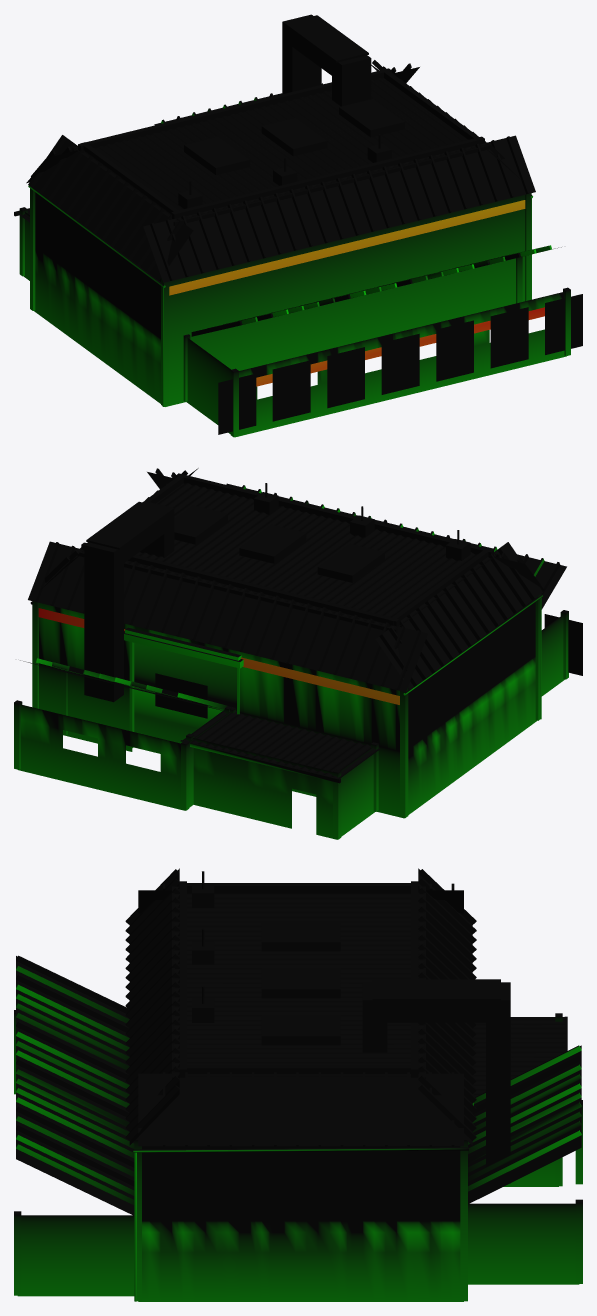
Rendered from vehiclehangar.glb.
The picture shows the model from 3 angles, top to bottom: view 1: azimuth 30°, elevation 25°; view 2: azimuth 150°, elevation 25°; view 3: azimuth 270°, elevation 25°; orthographic projection. The views are drawn at different scales.
Visible parts, largest first — view 1: lod0; view 2: lod0; view 3: lod0.
Boxes of the visible parts, x1=… form: lod0: x1=14, y1=14, x2=582, y2=437; lod0: x1=14, y1=468, x2=582, y2=839; lod0: x1=14, y1=868, x2=582, y2=1301.
Size of what is drawn, in the model's own units: 22.09 by 11.8 by 23.05.
